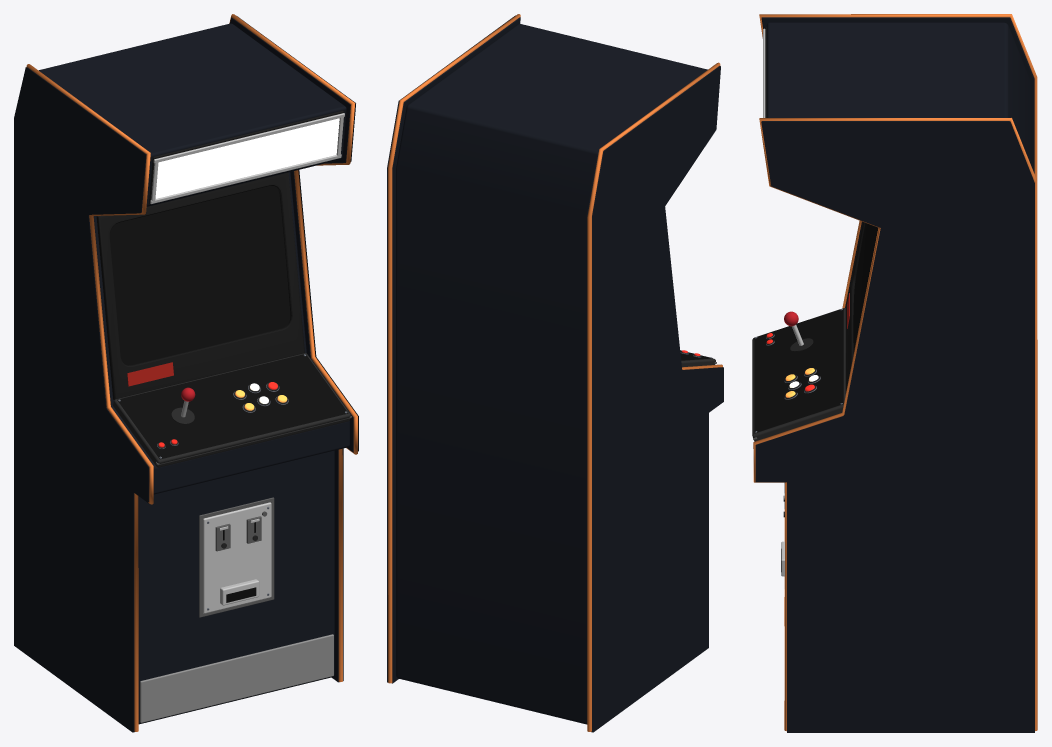
The model's file is cab-carillon.glb.
3 renders of one model, left to right at view 1: azimuth 30°, elevation 25°; view 2: azimuth 150°, elevation 25°; view 3: azimuth 270°, elevation 25°, orthographic. The views are drawn at different scales.
Visible parts, largest first — view 1: side_art_l, body, front_art, screen, glass, controls, deck_art, metal, coin, trim, marquee, side_art_r (+1 smaller); view 2: body, side_art_l, trim, side_art_r; view 3: side_art_r, body, deck_art, trim, controls, screen, glass, joy.
Boxes of the visible parts, x1,y1,x2,y2 form: side_art_l: (14, 67, 148, 732); body: (27, 17, 355, 732); front_art: (140, 451, 332, 680); screen: (110, 186, 290, 365); glass: (110, 186, 291, 365); controls: (96, 110, 350, 467); deck_art: (117, 354, 348, 459); metal: (140, 113, 351, 722); coin: (199, 497, 274, 617); trim: (26, 14, 357, 731); marquee: (155, 118, 339, 198); side_art_r: (237, 16, 358, 680); body: (392, 17, 719, 732); side_art_l: (592, 66, 723, 732); trim: (388, 14, 722, 731); side_art_r: (387, 15, 515, 682); side_art_r: (755, 121, 1034, 732); body: (756, 17, 1034, 444); deck_art: (754, 308, 843, 433); trim: (753, 14, 1037, 731); controls: (752, 27, 865, 441); screen: (853, 223, 878, 353); glass: (852, 223, 877, 357); joy: (784, 311, 813, 351).
Size of the model in its own units: 0.743 by 1.99 by 0.8365.
